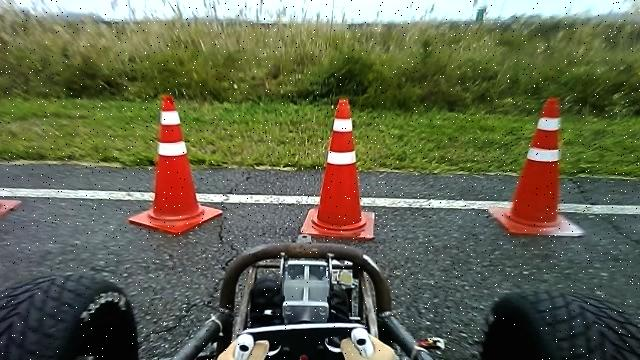red cone: (488, 96, 586, 238), (128, 94, 223, 234), (300, 96, 376, 241)
